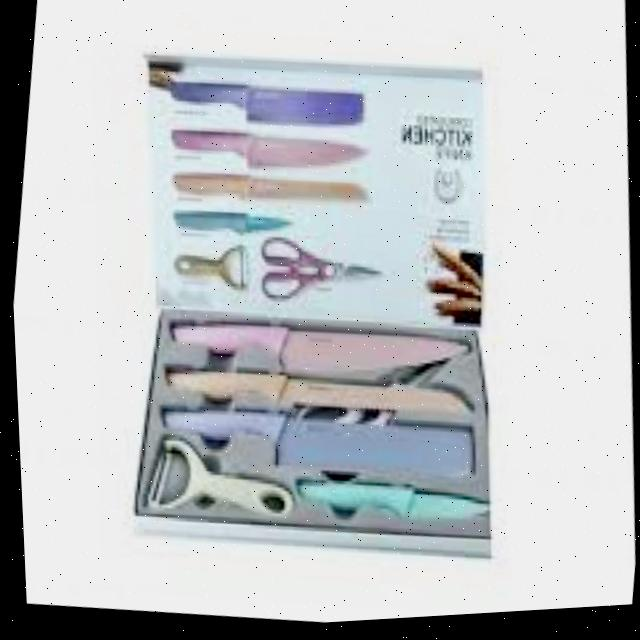knife: (153, 391, 475, 498), (162, 308, 466, 399), (160, 355, 473, 438), (165, 69, 367, 146), (164, 119, 368, 190), (286, 472, 487, 543), (168, 163, 371, 220), (166, 205, 291, 250)
